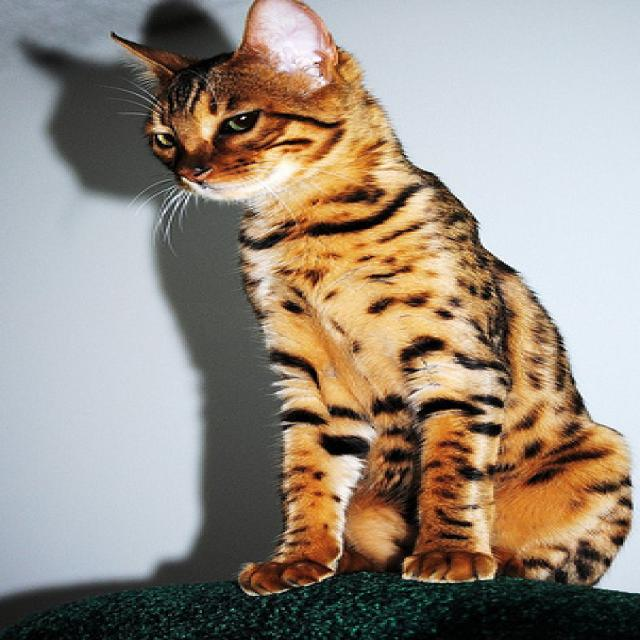Bengal: (104, 0, 640, 606)
